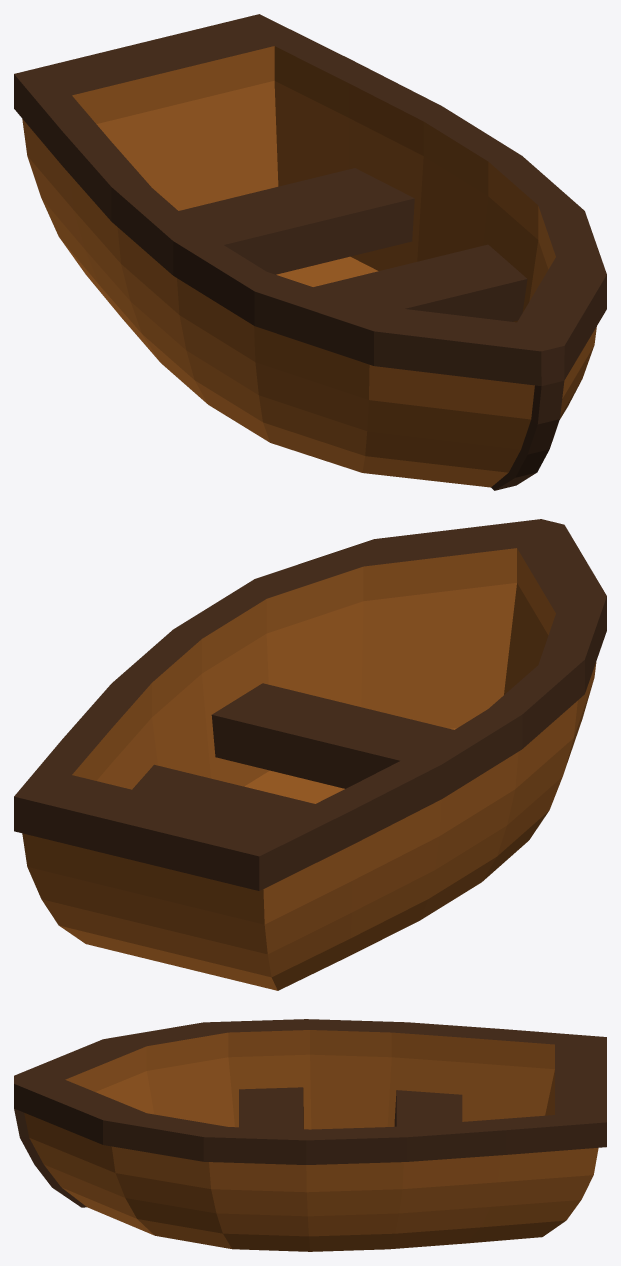
File: Boat.fbx
The picture shows the model from 3 angles, top to bottom: view 1: azimuth 30°, elevation 25°; view 2: azimuth 150°, elevation 25°; view 3: azimuth 270°, elevation 25°; orthographic projection. The views are drawn at different scales.
Parts seen in each view (by area): view 1: Cube; view 2: Cube; view 3: Cube.
Part boxes in pixels (x1,y1,x2,y2): Cube: (14, 14, 606, 490); Cube: (14, 519, 606, 990); Cube: (14, 1019, 606, 1251).
Bounding box in the file's own units: 420 × 201 × 868.
